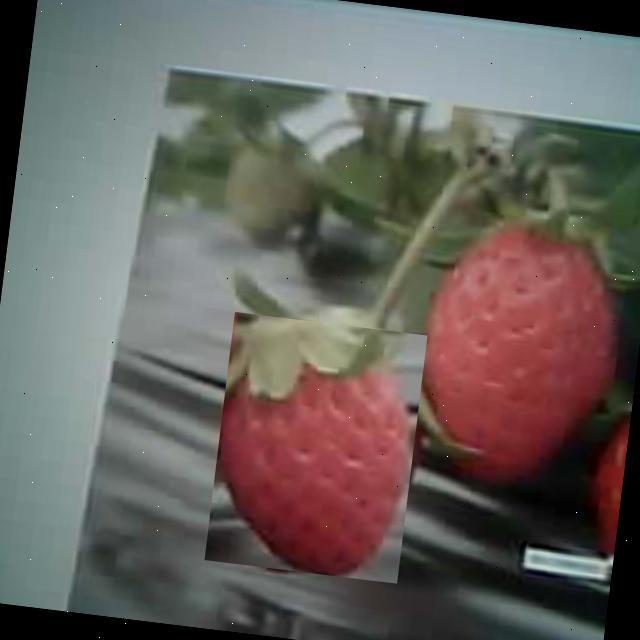ripe: (205, 312, 426, 583), (412, 217, 624, 493)
unripe: (220, 134, 318, 239)
